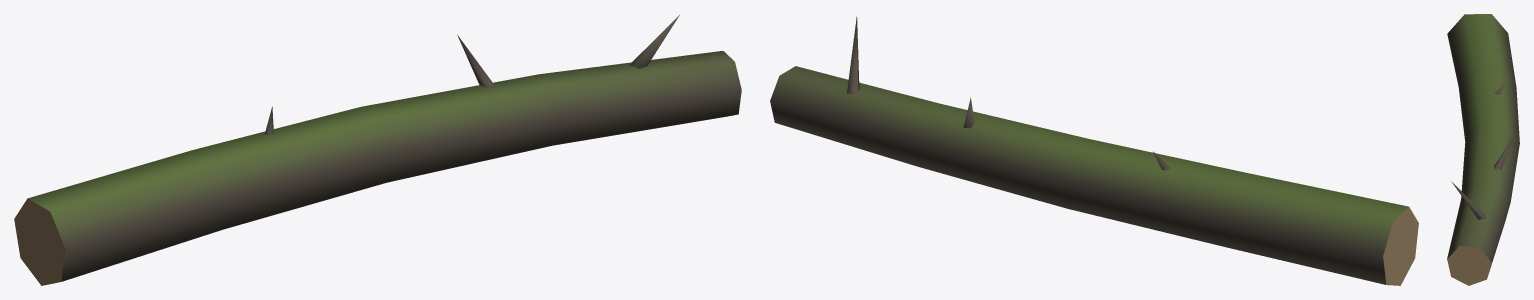
File: log_fallen.glb
The picture shows the model from 3 angles, left to right: view 1: azimuth 30°, elevation 25°; view 2: azimuth 150°, elevation 25°; view 3: azimuth 270°, elevation 25°; orthographic projection. The views are drawn at different scales.
Visible parts, largest first — view 1: log_fallen; view 2: log_fallen; view 3: log_fallen.
Boxes of the visible parts, <box> form: log_fallen: <box>14,15,741,285</box>; log_fallen: <box>770,16,1418,285</box>; log_fallen: <box>1447,14,1519,285</box>.
Bounding box in the file's own units: 6.47 × 1.21 × 0.8828.
